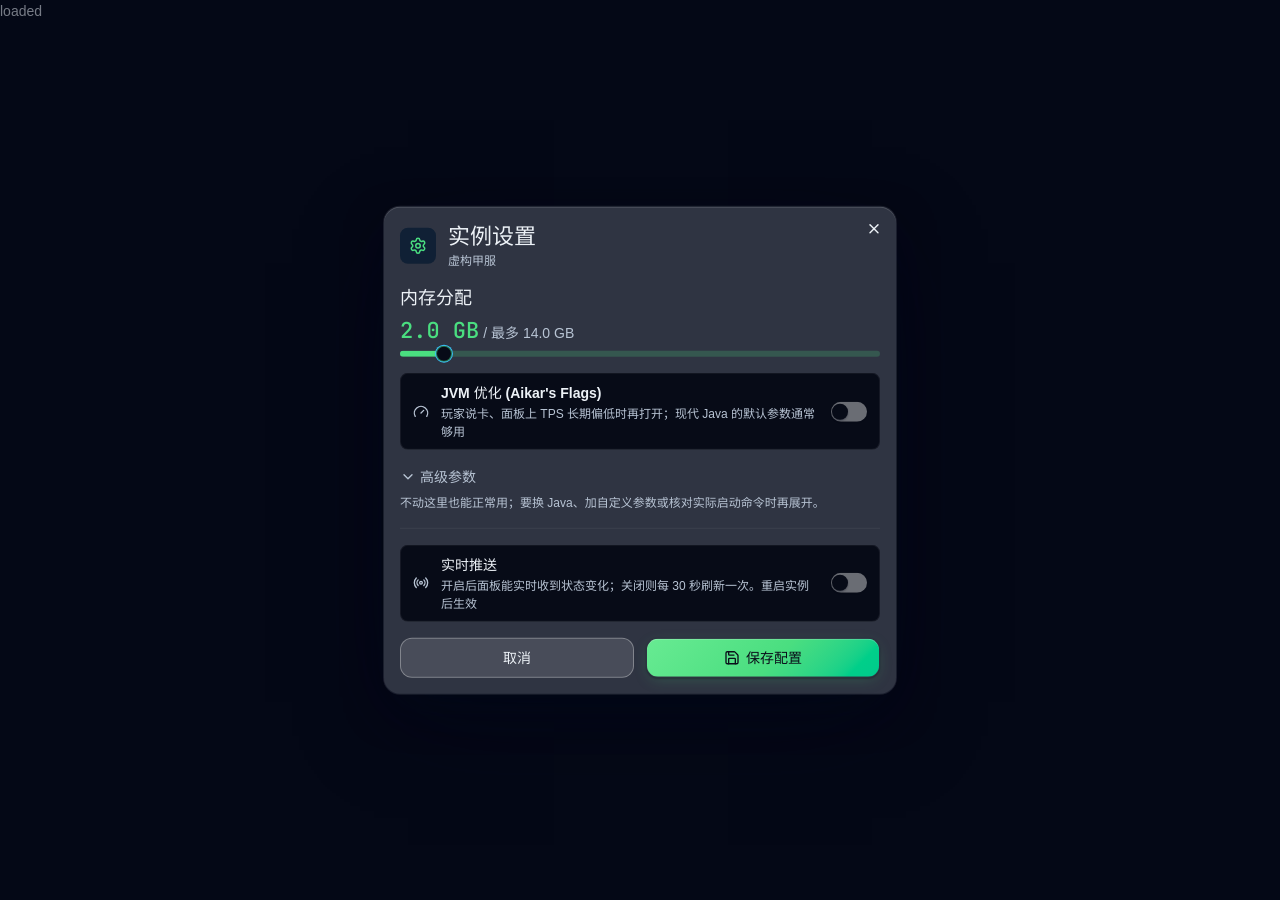
Test: InstanceSettingsDialog › 滑块 0.5G 步进：数值与命令预览实时联动（非整数 G → M 后缀）
Click the button "高级参数": x=438, y=477 [400,466,476,488]
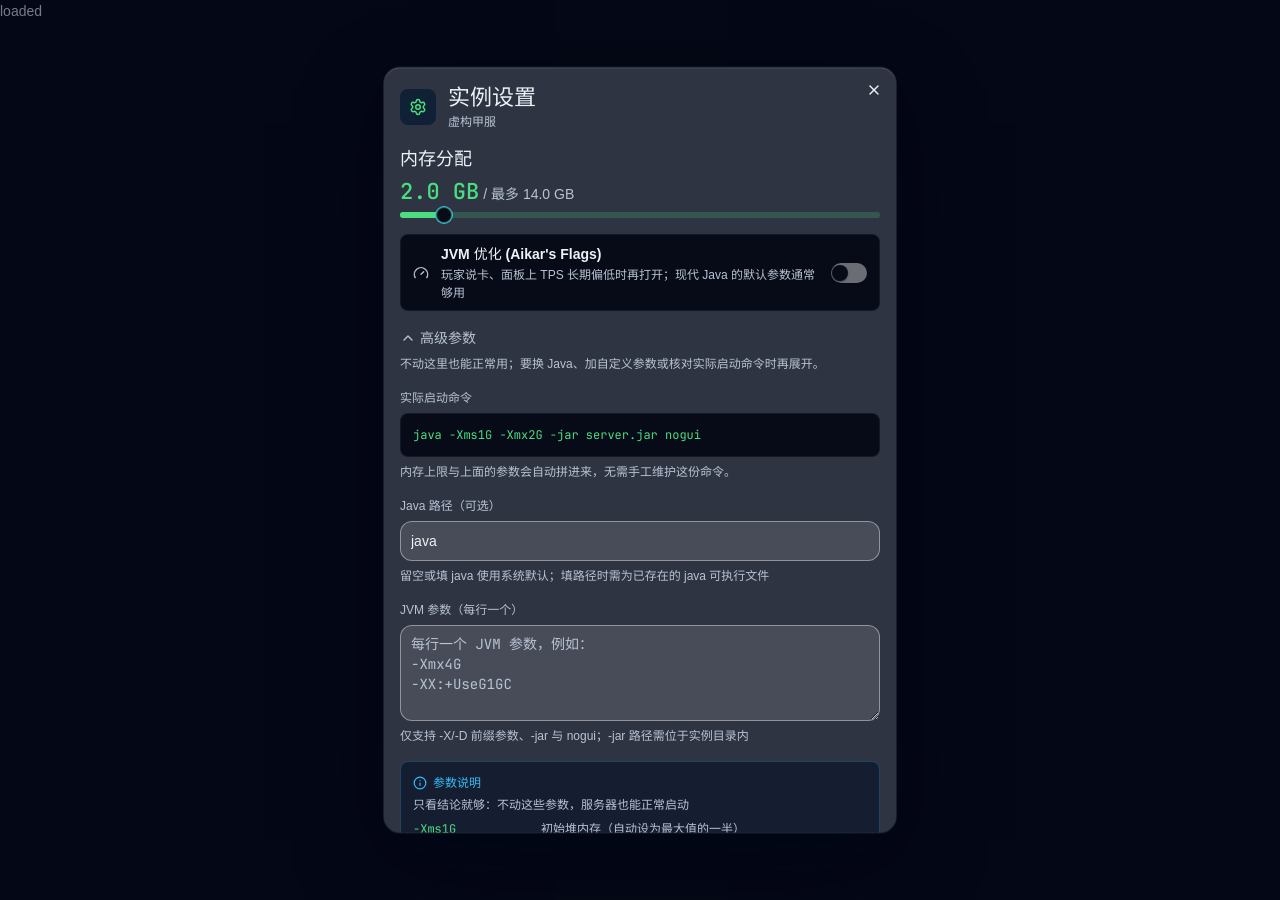
Press Arrowright
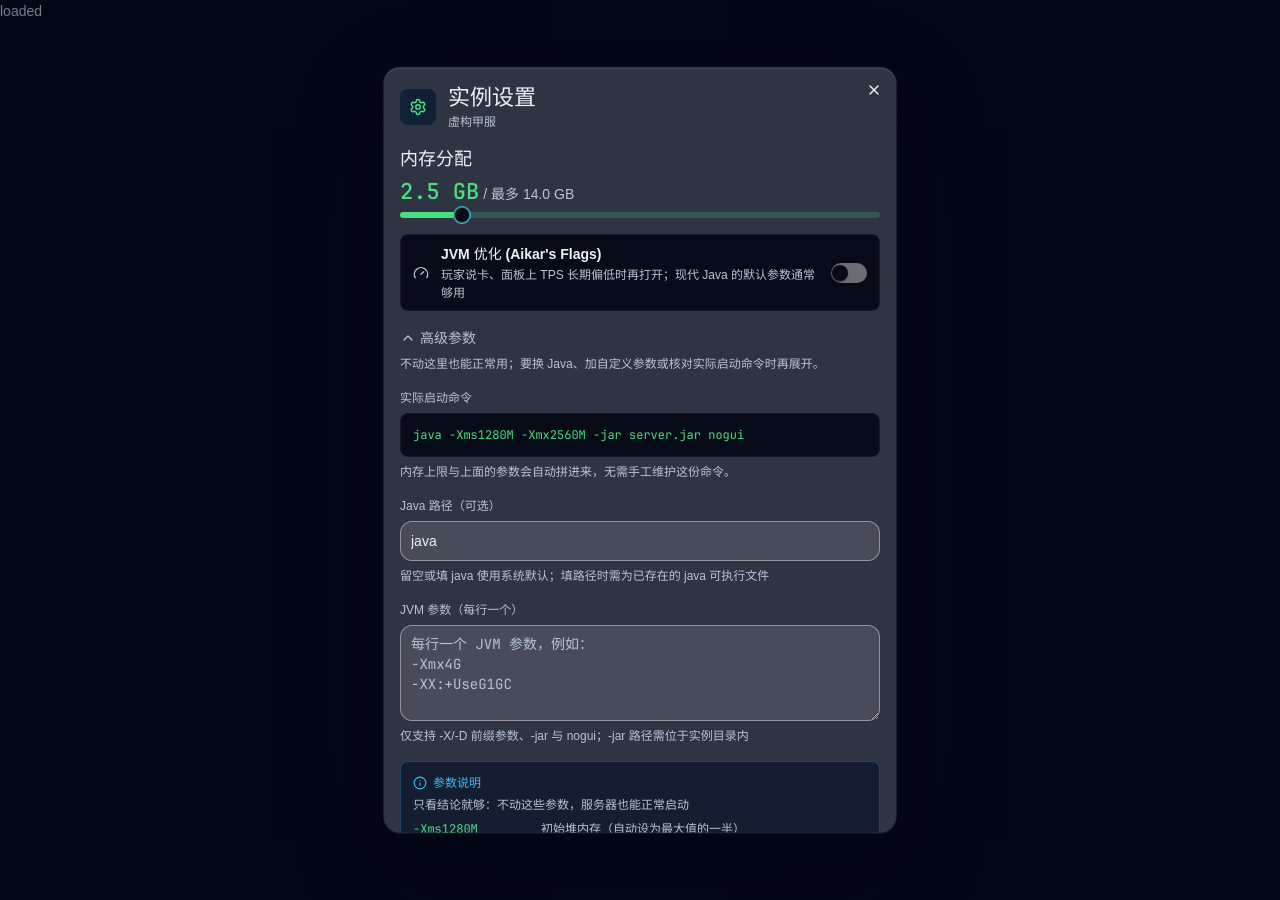
Expected: the text "2.5 GB" is shown, [400,176,479,205]
Expected: the text "java -Xms1280M -Xmx2560M -jar server.jar nogui" is shown, [400,413,880,457]
